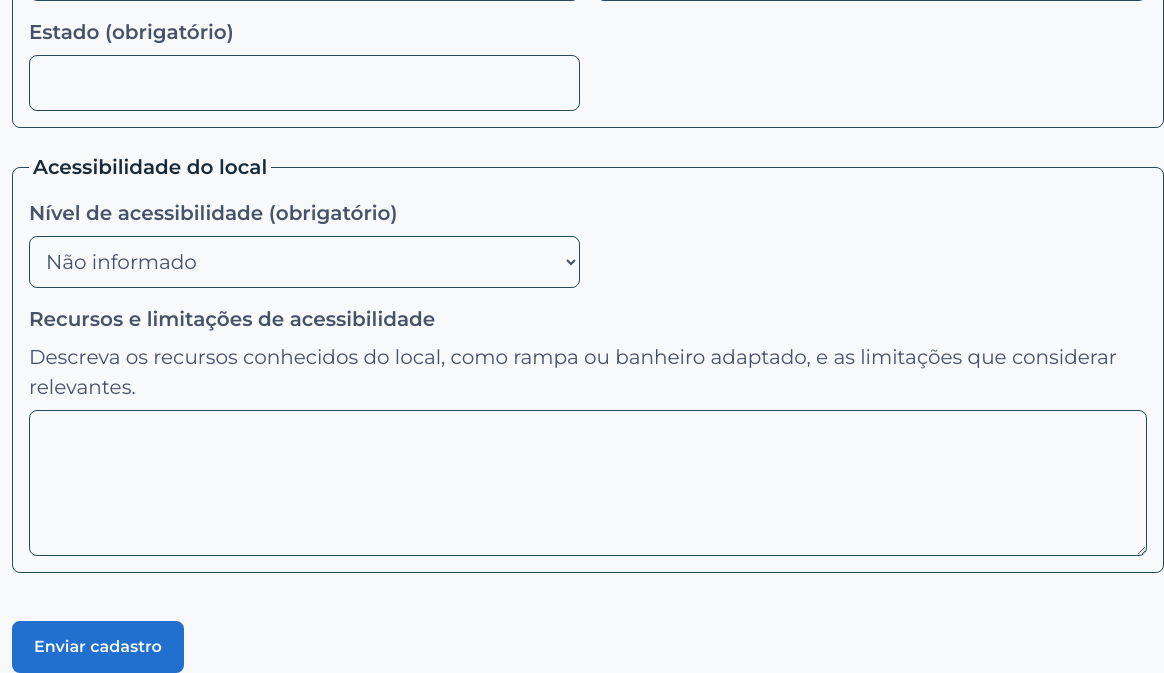
it: Cadastro com dados inválidos › mostra os erros e foca o nome
(page scrolled)
Click the button "Enviar cadastro" at (98, 647), box 12,621 -> 184,672
(page scrolled)
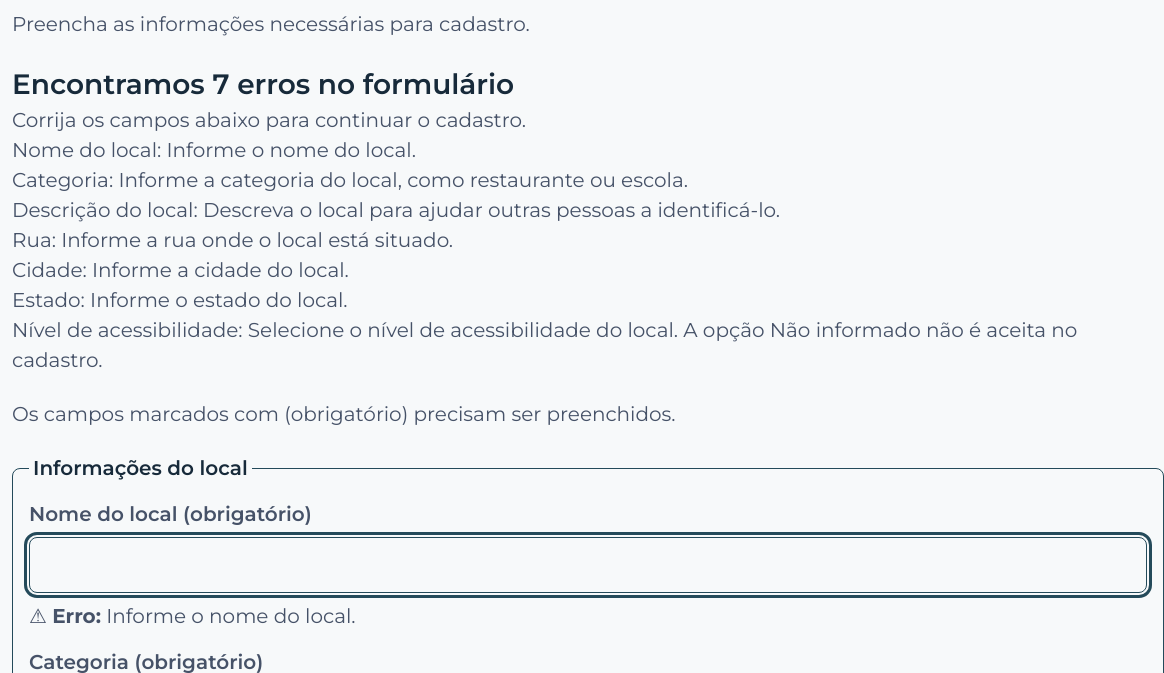
Expected: the heading "Encontramos 7 erros no formulário" is shown, 12,67 -> 514,101
Expected: the link "Nome do local: Informe o nome do local." is shown, 12,138 -> 416,162
